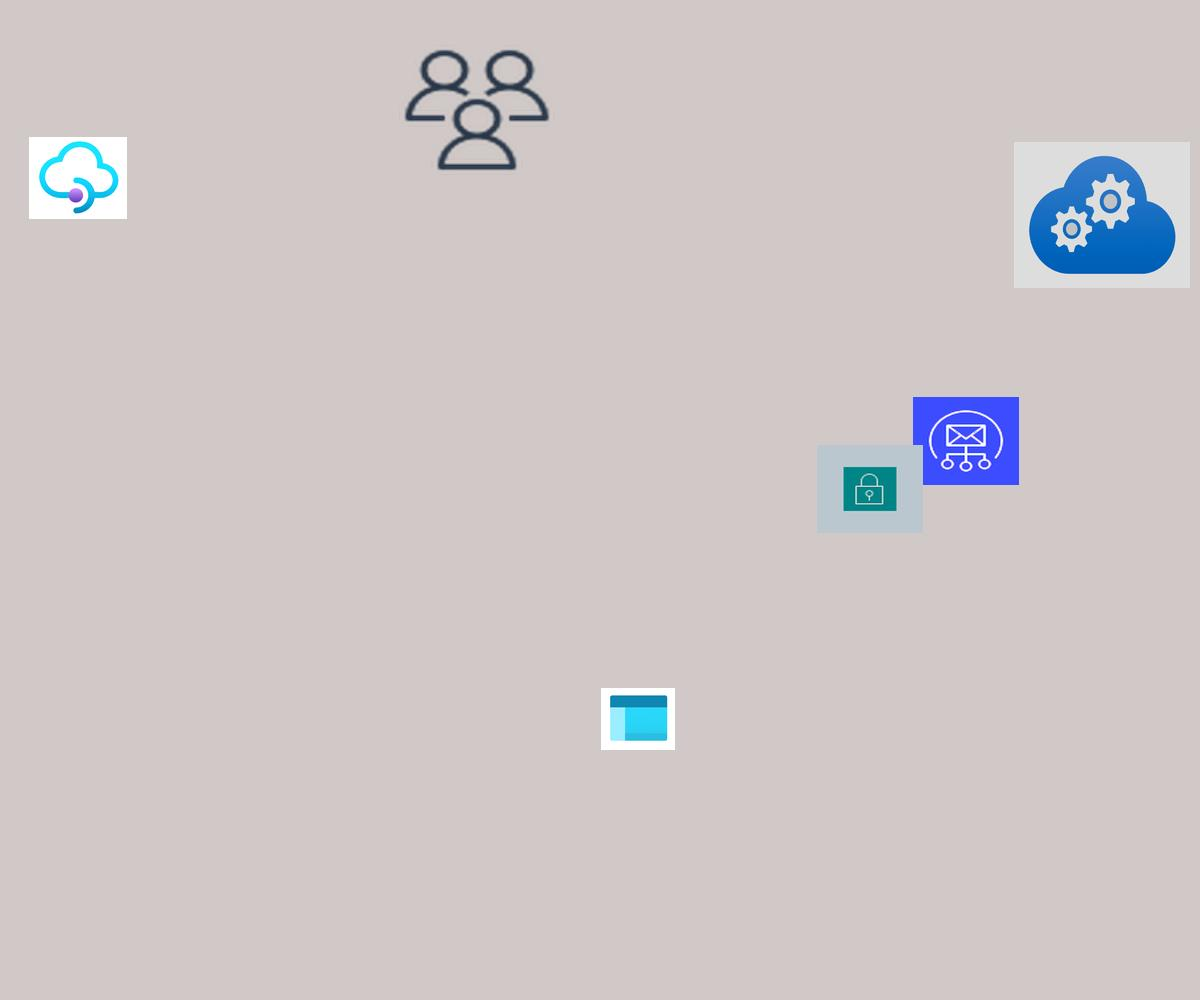AWS-Private-subnet: (817, 445, 923, 533)
AWS-Res_Users: (399, 45, 555, 175)
AWS-Simple-Email-Service: (913, 397, 1019, 485)
Azure_api_gateway: (29, 137, 127, 219)
Azure_cloud_services: (1014, 142, 1190, 288)
Azure_management-portal: (601, 688, 675, 750)
